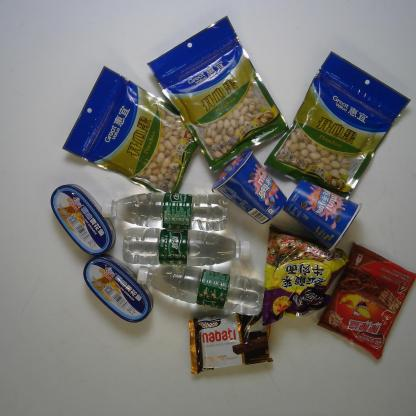Canned Food: (82, 254, 156, 324), (50, 182, 117, 256)
Dessert: (318, 242, 416, 360), (280, 178, 362, 254), (186, 310, 274, 376), (209, 150, 286, 224)
Dried Fruit: (146, 15, 290, 173), (263, 50, 413, 200), (61, 64, 200, 195)
Drink: (135, 264, 268, 317), (121, 226, 253, 268), (100, 192, 230, 233)
Instant Noodles: (260, 221, 349, 325)
